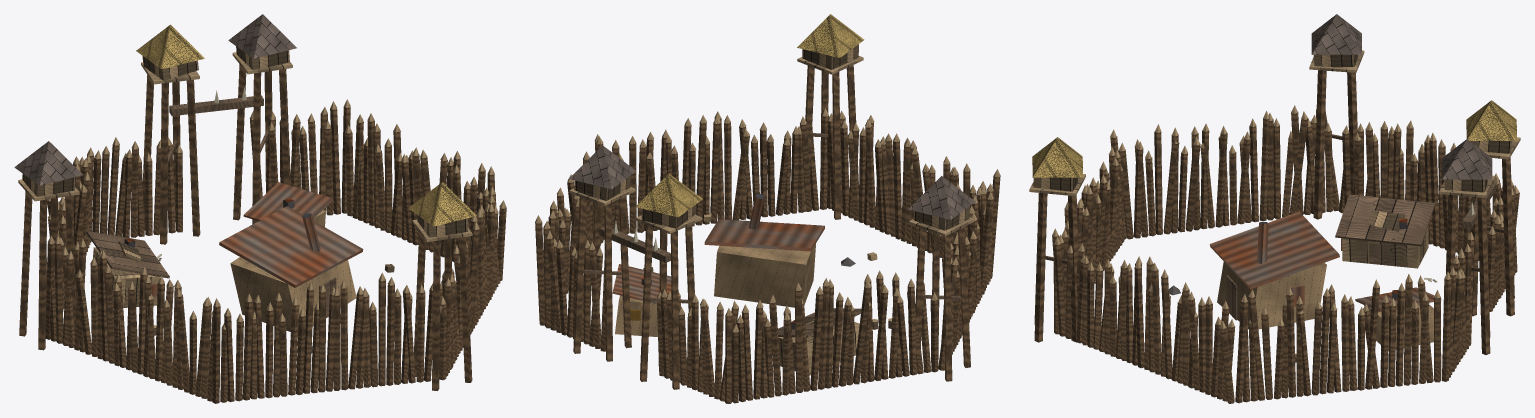
File: cm_goblin_stockade.glb
The picture shows the model from 3 angles, left to right: view 1: azimuth 30°, elevation 25°; view 2: azimuth 150°, elevation 25°; view 3: azimuth 270°, elevation 25°; orthographic projection.
Parts seen in each view (by area): view 1: cm_goblin_stockade; view 2: cm_goblin_stockade; view 3: cm_goblin_stockade.
Boxes of the visible parts, x1,y1,x2,y2 form: cm_goblin_stockade: (14,14,506,403); cm_goblin_stockade: (535,14,1000,403); cm_goblin_stockade: (1029,14,1520,403).
Bounding box in the file's own units: 2.05 × 0.9624 × 2.07.
Materials: 1 (1 with a texture image).
